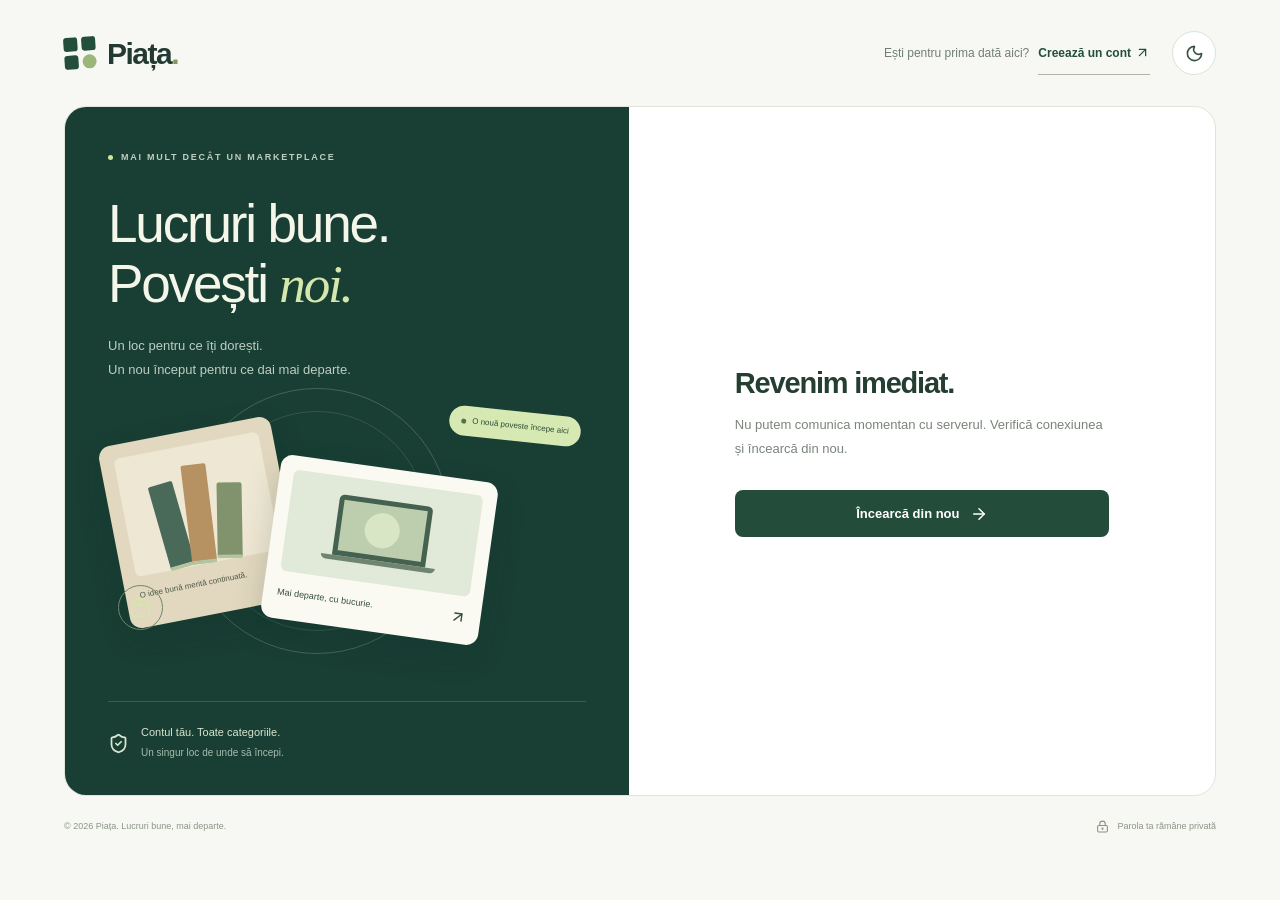
Scenario: authentication screens › supports retry after an initial backend outage
The image size is (1280, 900).
Expected: the message shows "Nu putem comunica", x1=735 y1=418 x2=1103 y2=456
Click the button "Încearcă din nou": {"x": 922, "y": 514} x1=735 y1=490 x2=1109 y2=537
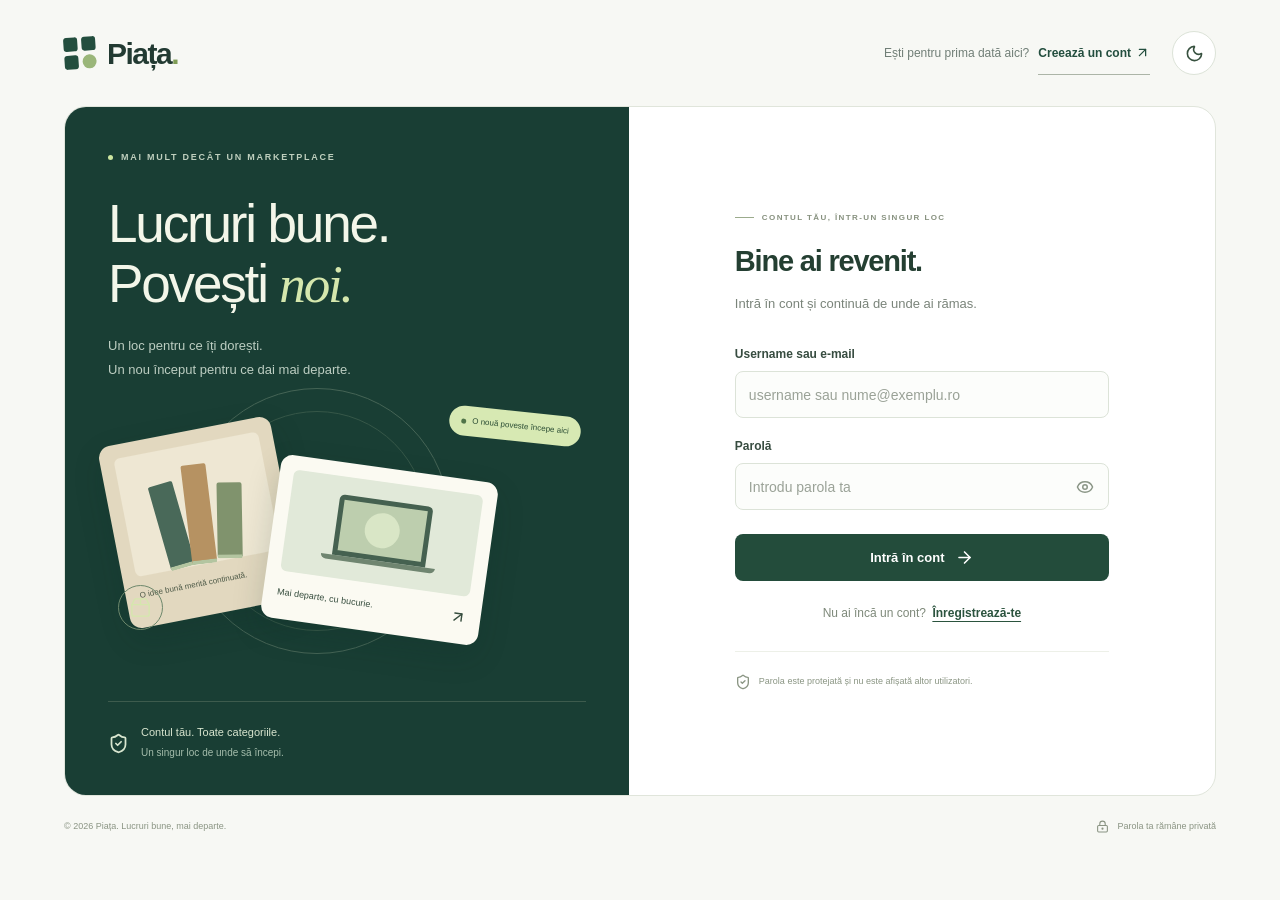
Now the field labelled "Username sau e-mail" is shown, box x1=735 y1=371 x2=1109 y2=418
